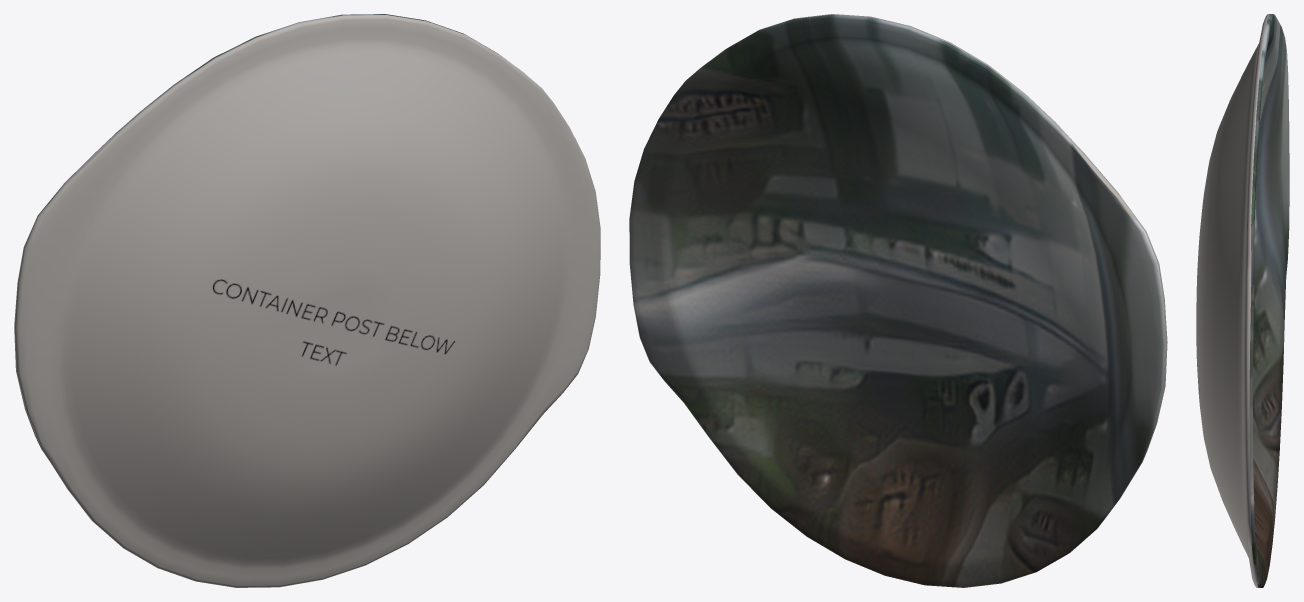
3 renders of one model, left to right at view 1: azimuth 30°, elevation 25°; view 2: azimuth 150°, elevation 25°; view 3: azimuth 270°, elevation 25°, orthographic. The views are drawn at different scales.
Parts seen in each view (by area): view 1: bluewhitered39:_bluewhitered_39_remodel1 group; view 2: bluewhitered39:_bluewhitered_39_remodel1 group; view 3: bluewhitered39:_bluewhitered_39_remodel1 group.
Part boxes in pixels (x1,y1,x2,y2): bluewhitered39:_bluewhitered_39_remodel1 group: (14, 14, 600, 587); bluewhitered39:_bluewhitered_39_remodel1 group: (629, 14, 1167, 587); bluewhitered39:_bluewhitered_39_remodel1 group: (1196, 14, 1289, 587).
Bounding box in the file's own units: 8.8 × 8.37 × 1.36.
1 material, 1 textured.
